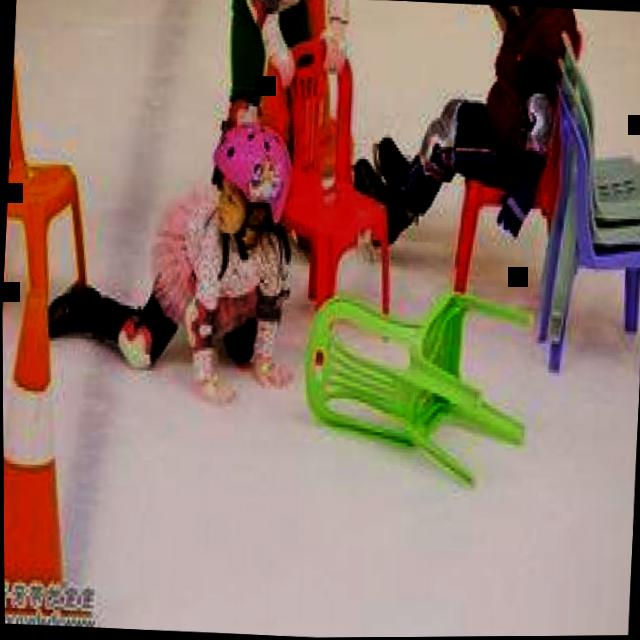Fall-Detected: (39, 90, 321, 399)
